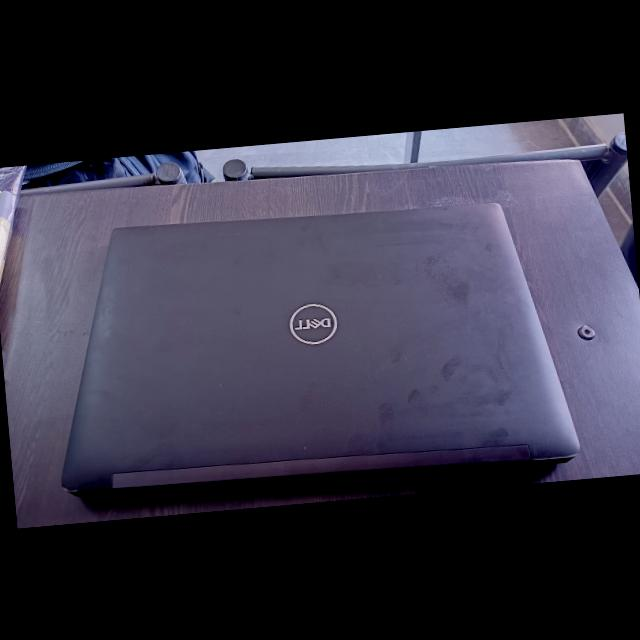laptop: (33, 176, 589, 509)
